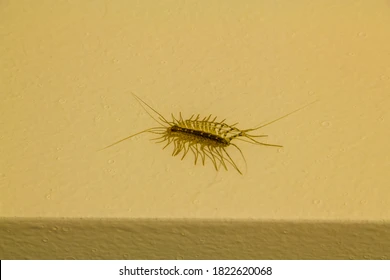centipede: (114, 88, 302, 178)
